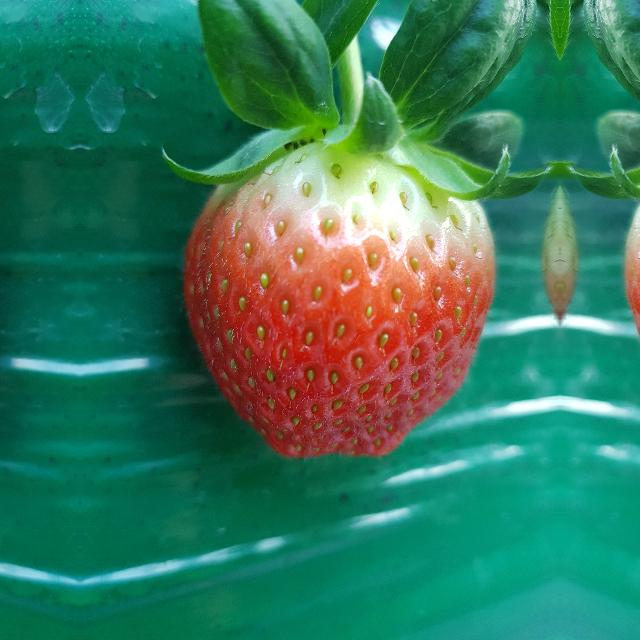Health_75: (182, 137, 496, 459)
